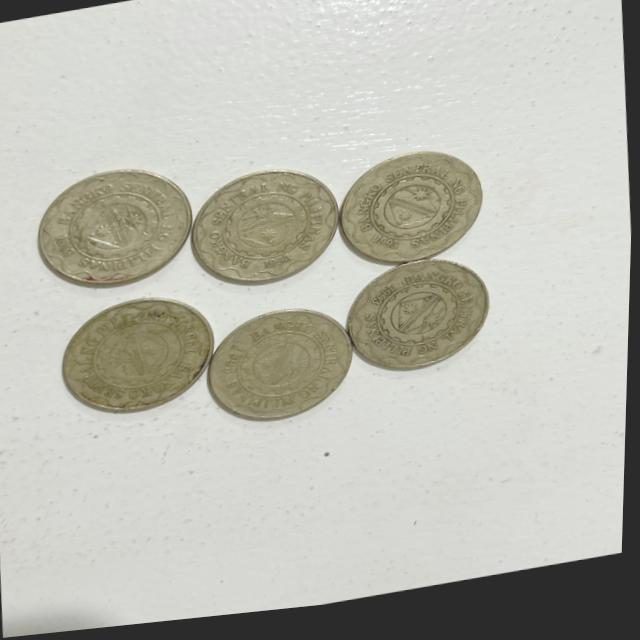5_Old_Back: (206, 292, 372, 449), (328, 142, 494, 298), (28, 156, 197, 303), (188, 161, 346, 300), (58, 292, 216, 427), (338, 261, 500, 390)
